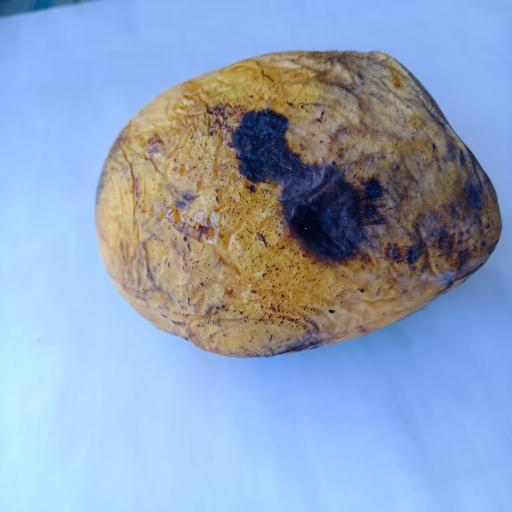mango-overripe: (86, 34, 510, 369)
